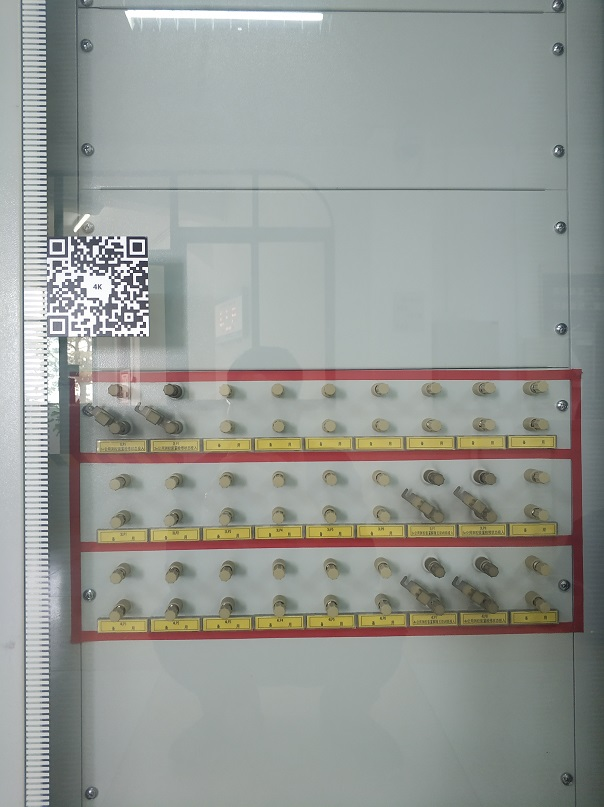ybempty: (524, 552, 552, 611), (520, 382, 551, 432), (163, 561, 188, 618), (321, 381, 345, 435)
ybopen: (448, 553, 504, 615), (400, 466, 452, 523)
